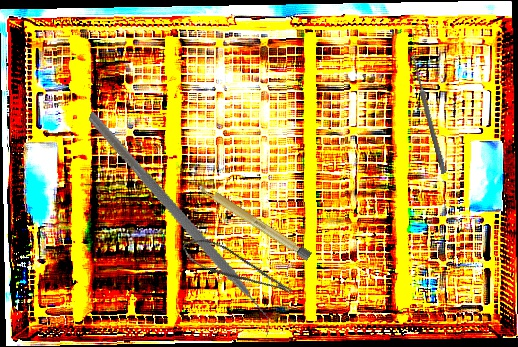Chopper: (41, 111, 315, 344)
Micro Scissor: (178, 227, 295, 314)
Scalpel Handle: (195, 180, 313, 262)
Surgical Spoon: (409, 53, 448, 175)
